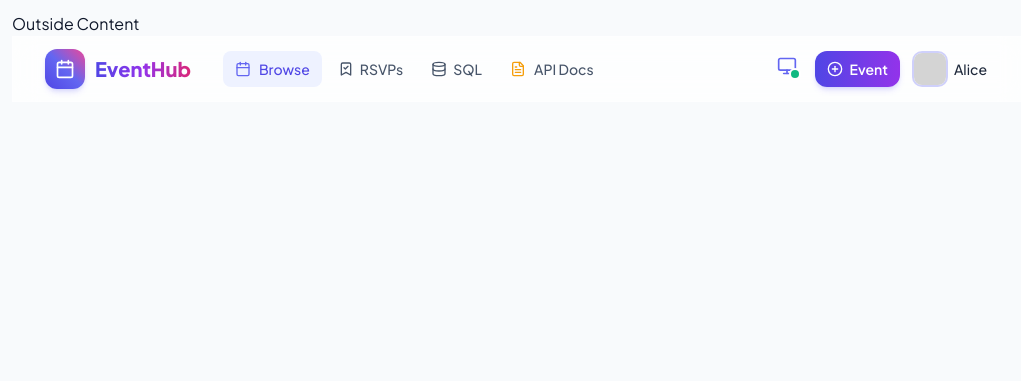
it: Email Verification Pages & Components › profile popover in Navbar opens on click and automatically hides on outside click and Escape
Expected: the text "Profile & Security" is not shown
# Click profile button to open
Click the button with aria-label "User Profile Menu" at [950, 69], box [908,47,993,91]
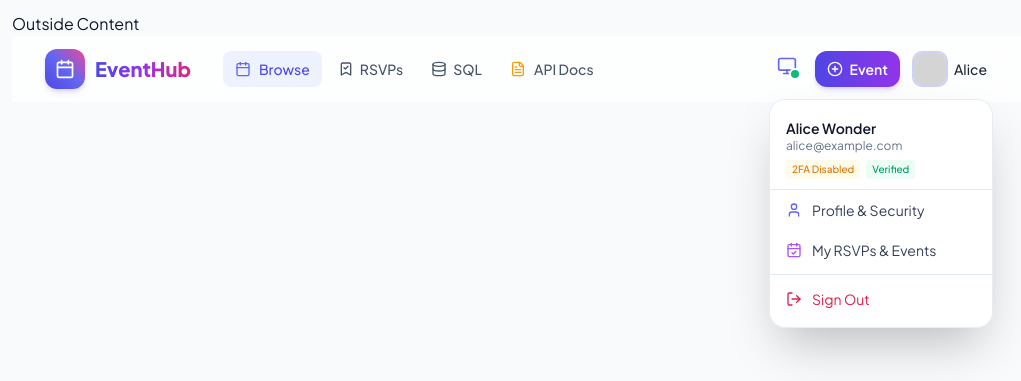
Expected: the link "Profile & Security" is shown, [786,201,925,219]
Expected: the button "Sign Out" is shown, [770,279,992,319]
# Test clicking outside closes popover
Press the mouse on the text with test id "outside-area" at [76, 24], box [12,13,140,34]
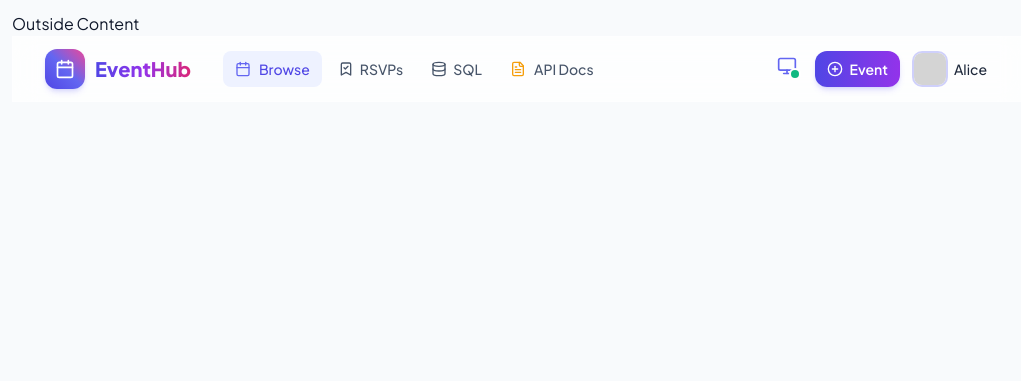
Expected: the link "Profile & Security" is gone
# Reopen popover
Click the button with aria-label "User Profile Menu" at [950, 69], box [908,47,993,91]
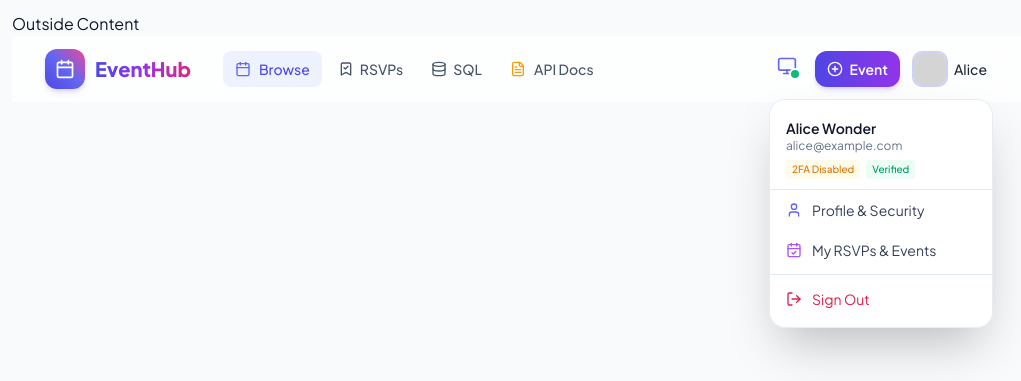
Expected: the link "Profile & Security" is shown, [786,201,925,219]
# Test pressing Escape closes popover
Press Escape
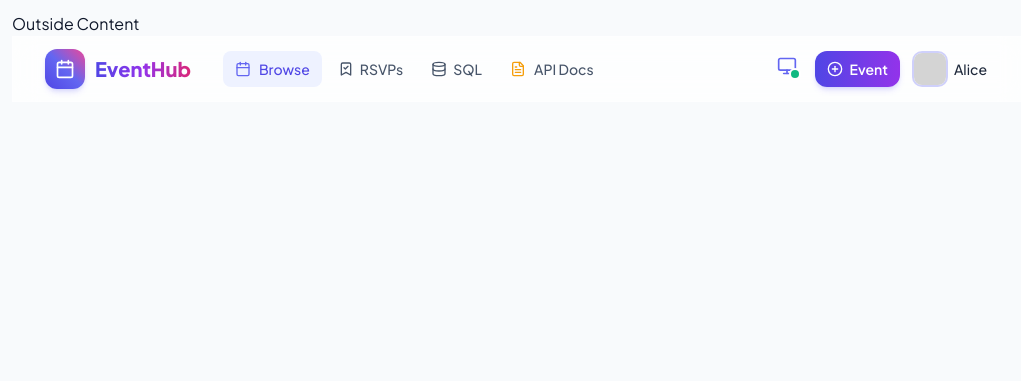
Expected: the link "Profile & Security" is gone
